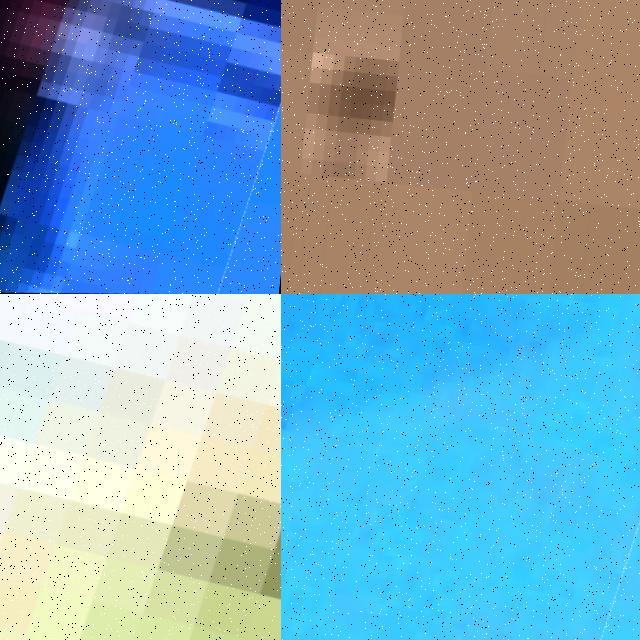0: (0, 0, 281, 294)
drone: (281, 294, 640, 640), (0, 294, 281, 640)
